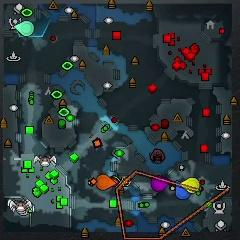p1: (174, 180, 190, 202)
p2: (13, 20, 35, 36)
p3: (150, 174, 171, 192)
p4: (181, 176, 200, 194)
p5: (95, 173, 116, 191)
